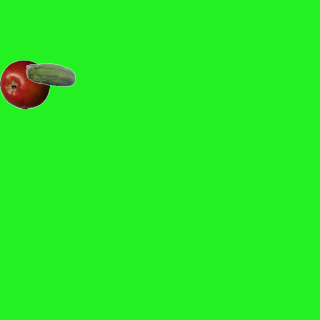Apple Braeburn: (0, 59, 49, 109)
Corn Husk: (25, 51, 75, 101)
